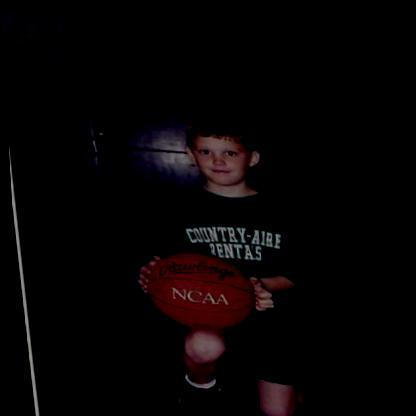basketball: (141, 239, 255, 334)
